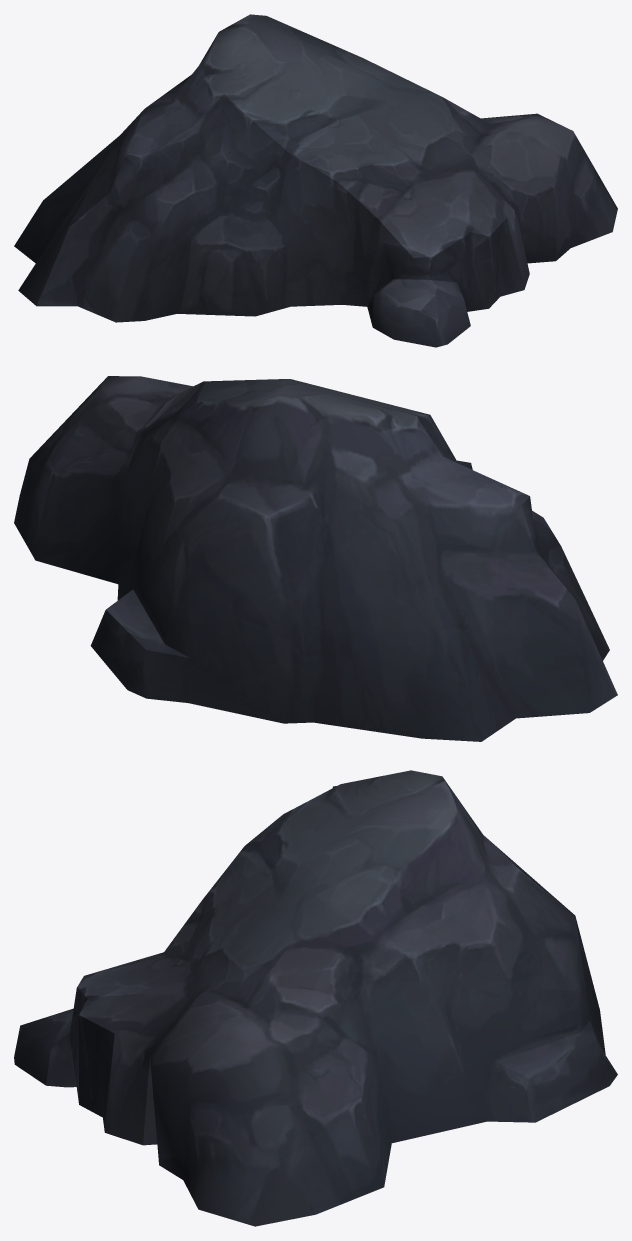
File: sanhj_stone_04.FBX
3 renders of one model, top to bottom at view 1: azimuth 30°, elevation 25°; view 2: azimuth 150°, elevation 25°; view 3: azimuth 270°, elevation 25°, orthographic. The views are drawn at different scales.
Visible parts, largest first — view 1: objxueshan_st_08; view 2: objxueshan_st_08; view 3: objxueshan_st_08.
Boxes of the visible parts, x1,y1,x2,y2 form: objxueshan_st_08: (14, 14, 617, 347); objxueshan_st_08: (14, 376, 617, 741); objxueshan_st_08: (14, 770, 617, 1226).
Bounding box in the file's own units: 10.9 × 4.06 × 8.49.
